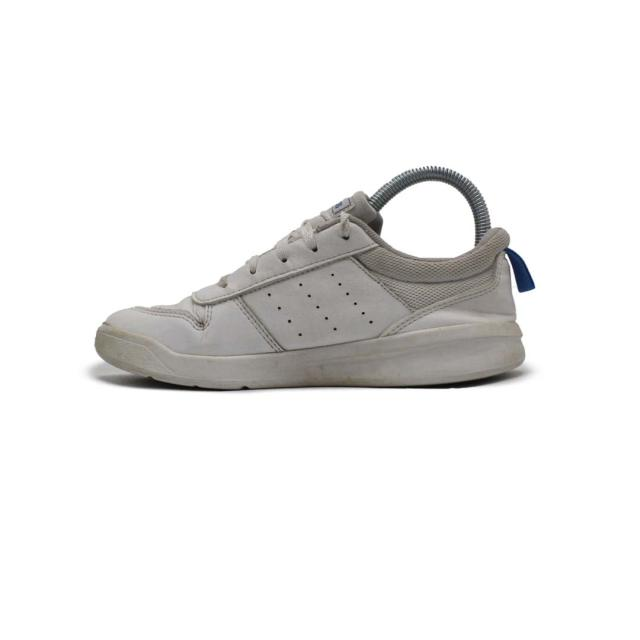heel: (492, 219, 541, 320)
midsole: (93, 326, 530, 391)
uppersole: (96, 212, 488, 350)
